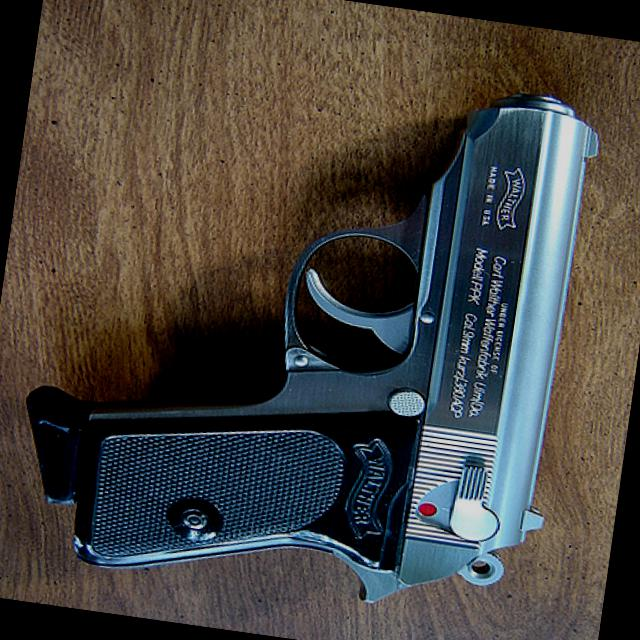handgun: (3, 27, 610, 629)
